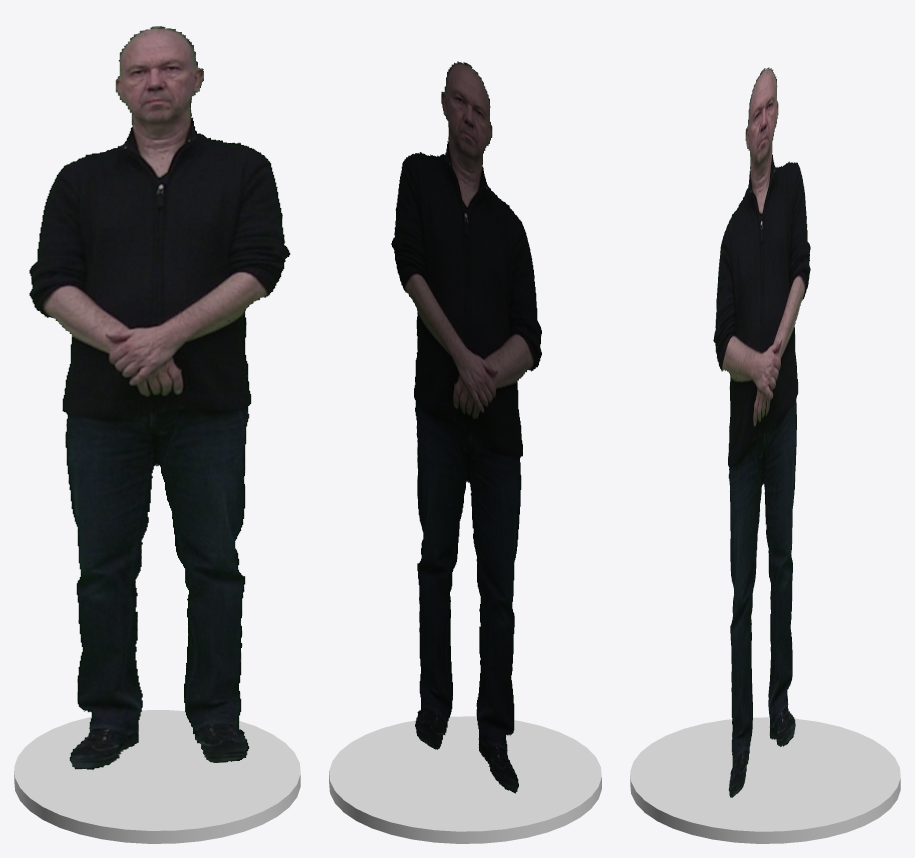
File: Guido Freisteller.fbx
The picture shows the model from 3 angles, left to right: view 1: azimuth 30°, elevation 25°; view 2: azimuth 150°, elevation 25°; view 3: azimuth 270°, elevation 25°; orthographic projection. The views are drawn at different scales.
Parts seen in each view (by area): view 1: Guido_Freisteller, Zylinder; view 2: Guido_Freisteller, Zylinder; view 3: Guido_Freisteller, Zylinder.
Boxes of the visible parts, x1=… form: Guido_Freisteller: x1=29, y1=26, x2=290, y2=769; Zylinder: x1=14, y1=710, x2=300, y2=843; Guido_Freisteller: x1=391, y1=61, x2=541, y2=793; Zylinder: x1=329, y1=716, x2=601, y2=843; Guido_Freisteller: x1=713, y1=67, x2=810, y2=797; Zylinder: x1=630, y1=717, x2=900, y2=843.
Bounding box in the file's own units: 71.9 × 211 × 71.9.
1 material, 1 textured.
